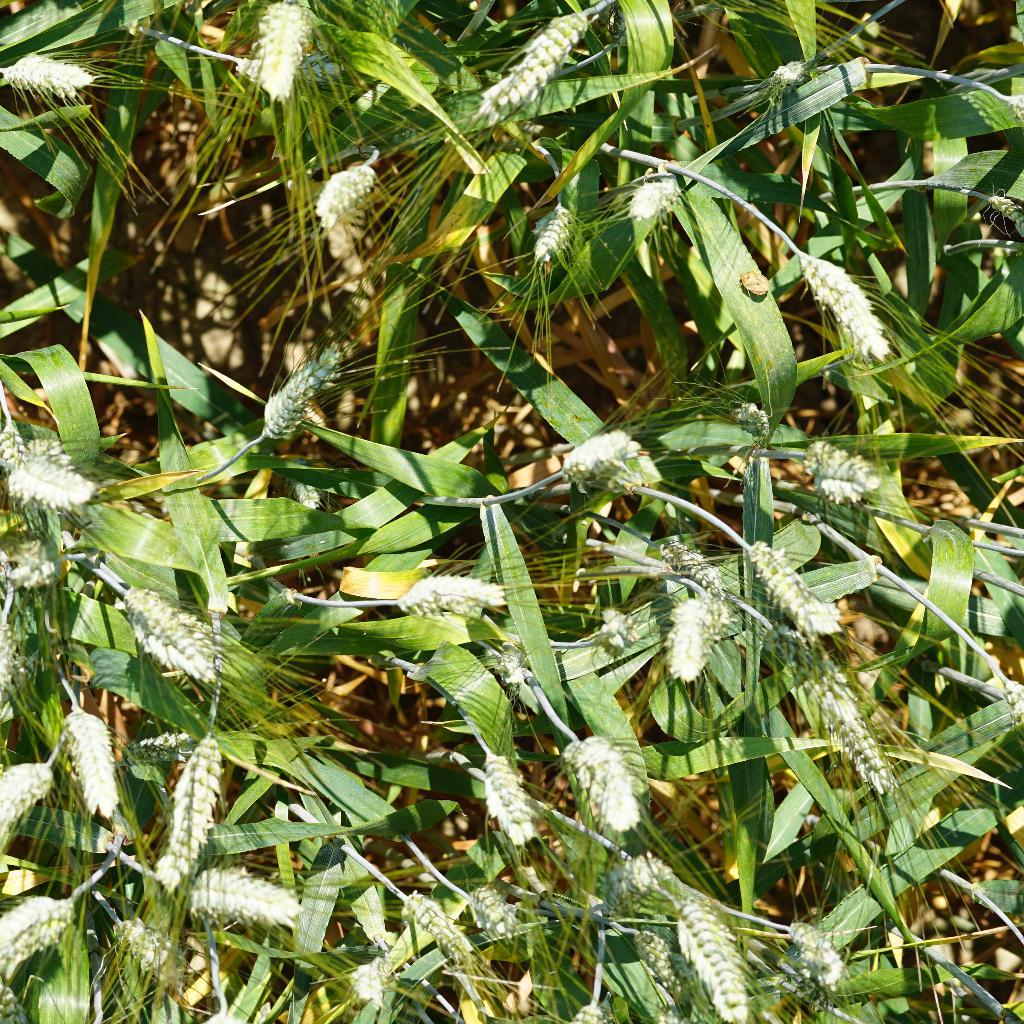0-0: (453, 0, 595, 133), (791, 240, 904, 374), (729, 527, 851, 642), (169, 851, 310, 945), (112, 578, 223, 697), (665, 904, 765, 1024), (157, 722, 232, 870), (803, 680, 893, 802), (53, 701, 131, 834), (550, 728, 647, 833), (0, 889, 93, 989), (0, 441, 108, 516), (396, 561, 519, 624), (796, 425, 888, 509), (258, 359, 350, 441), (247, 0, 313, 108), (0, 755, 58, 871), (479, 750, 544, 851), (770, 904, 847, 986), (395, 888, 467, 967), (636, 520, 716, 591), (597, 844, 676, 915), (0, 53, 107, 105), (549, 426, 658, 477), (311, 154, 381, 230), (0, 523, 66, 597), (105, 912, 179, 974), (660, 595, 713, 680), (635, 917, 684, 1005), (582, 598, 641, 671), (458, 879, 518, 946), (526, 197, 579, 269), (337, 942, 391, 1009), (482, 632, 534, 699), (727, 396, 785, 456), (628, 165, 677, 235), (757, 48, 811, 100)
